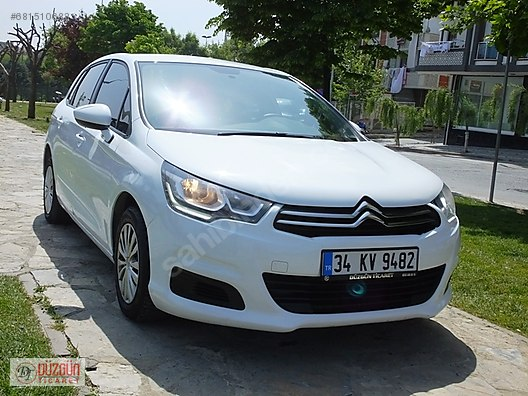citroen: (39, 49, 460, 336)
